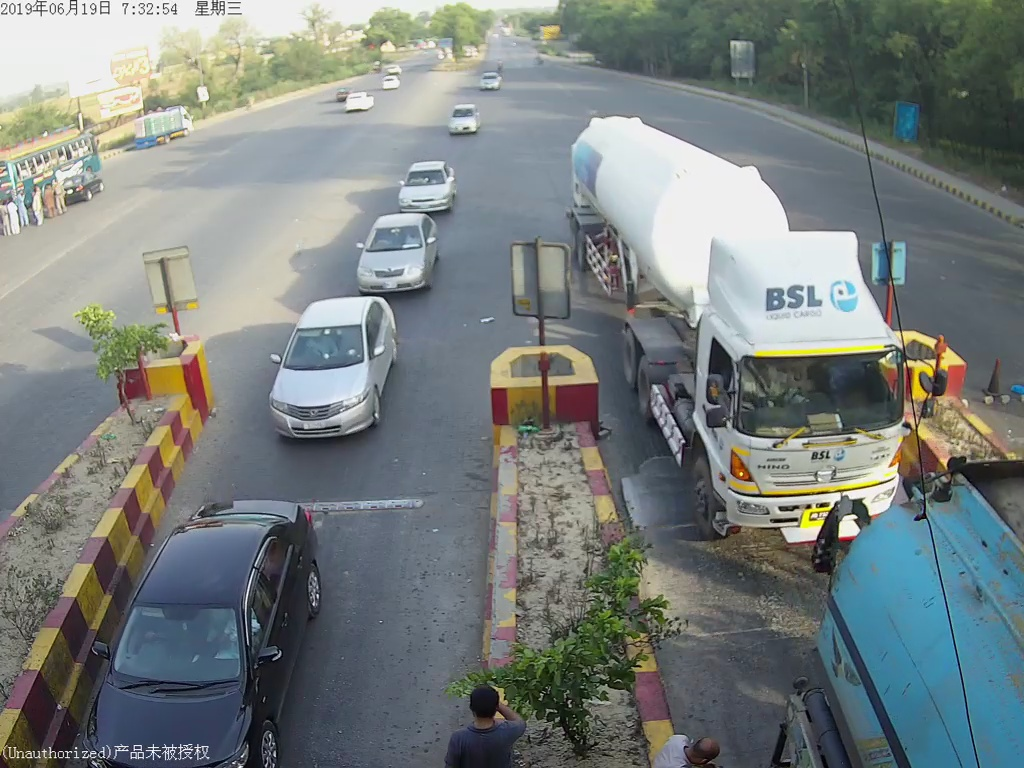Cat-5: (573, 117, 897, 518)
